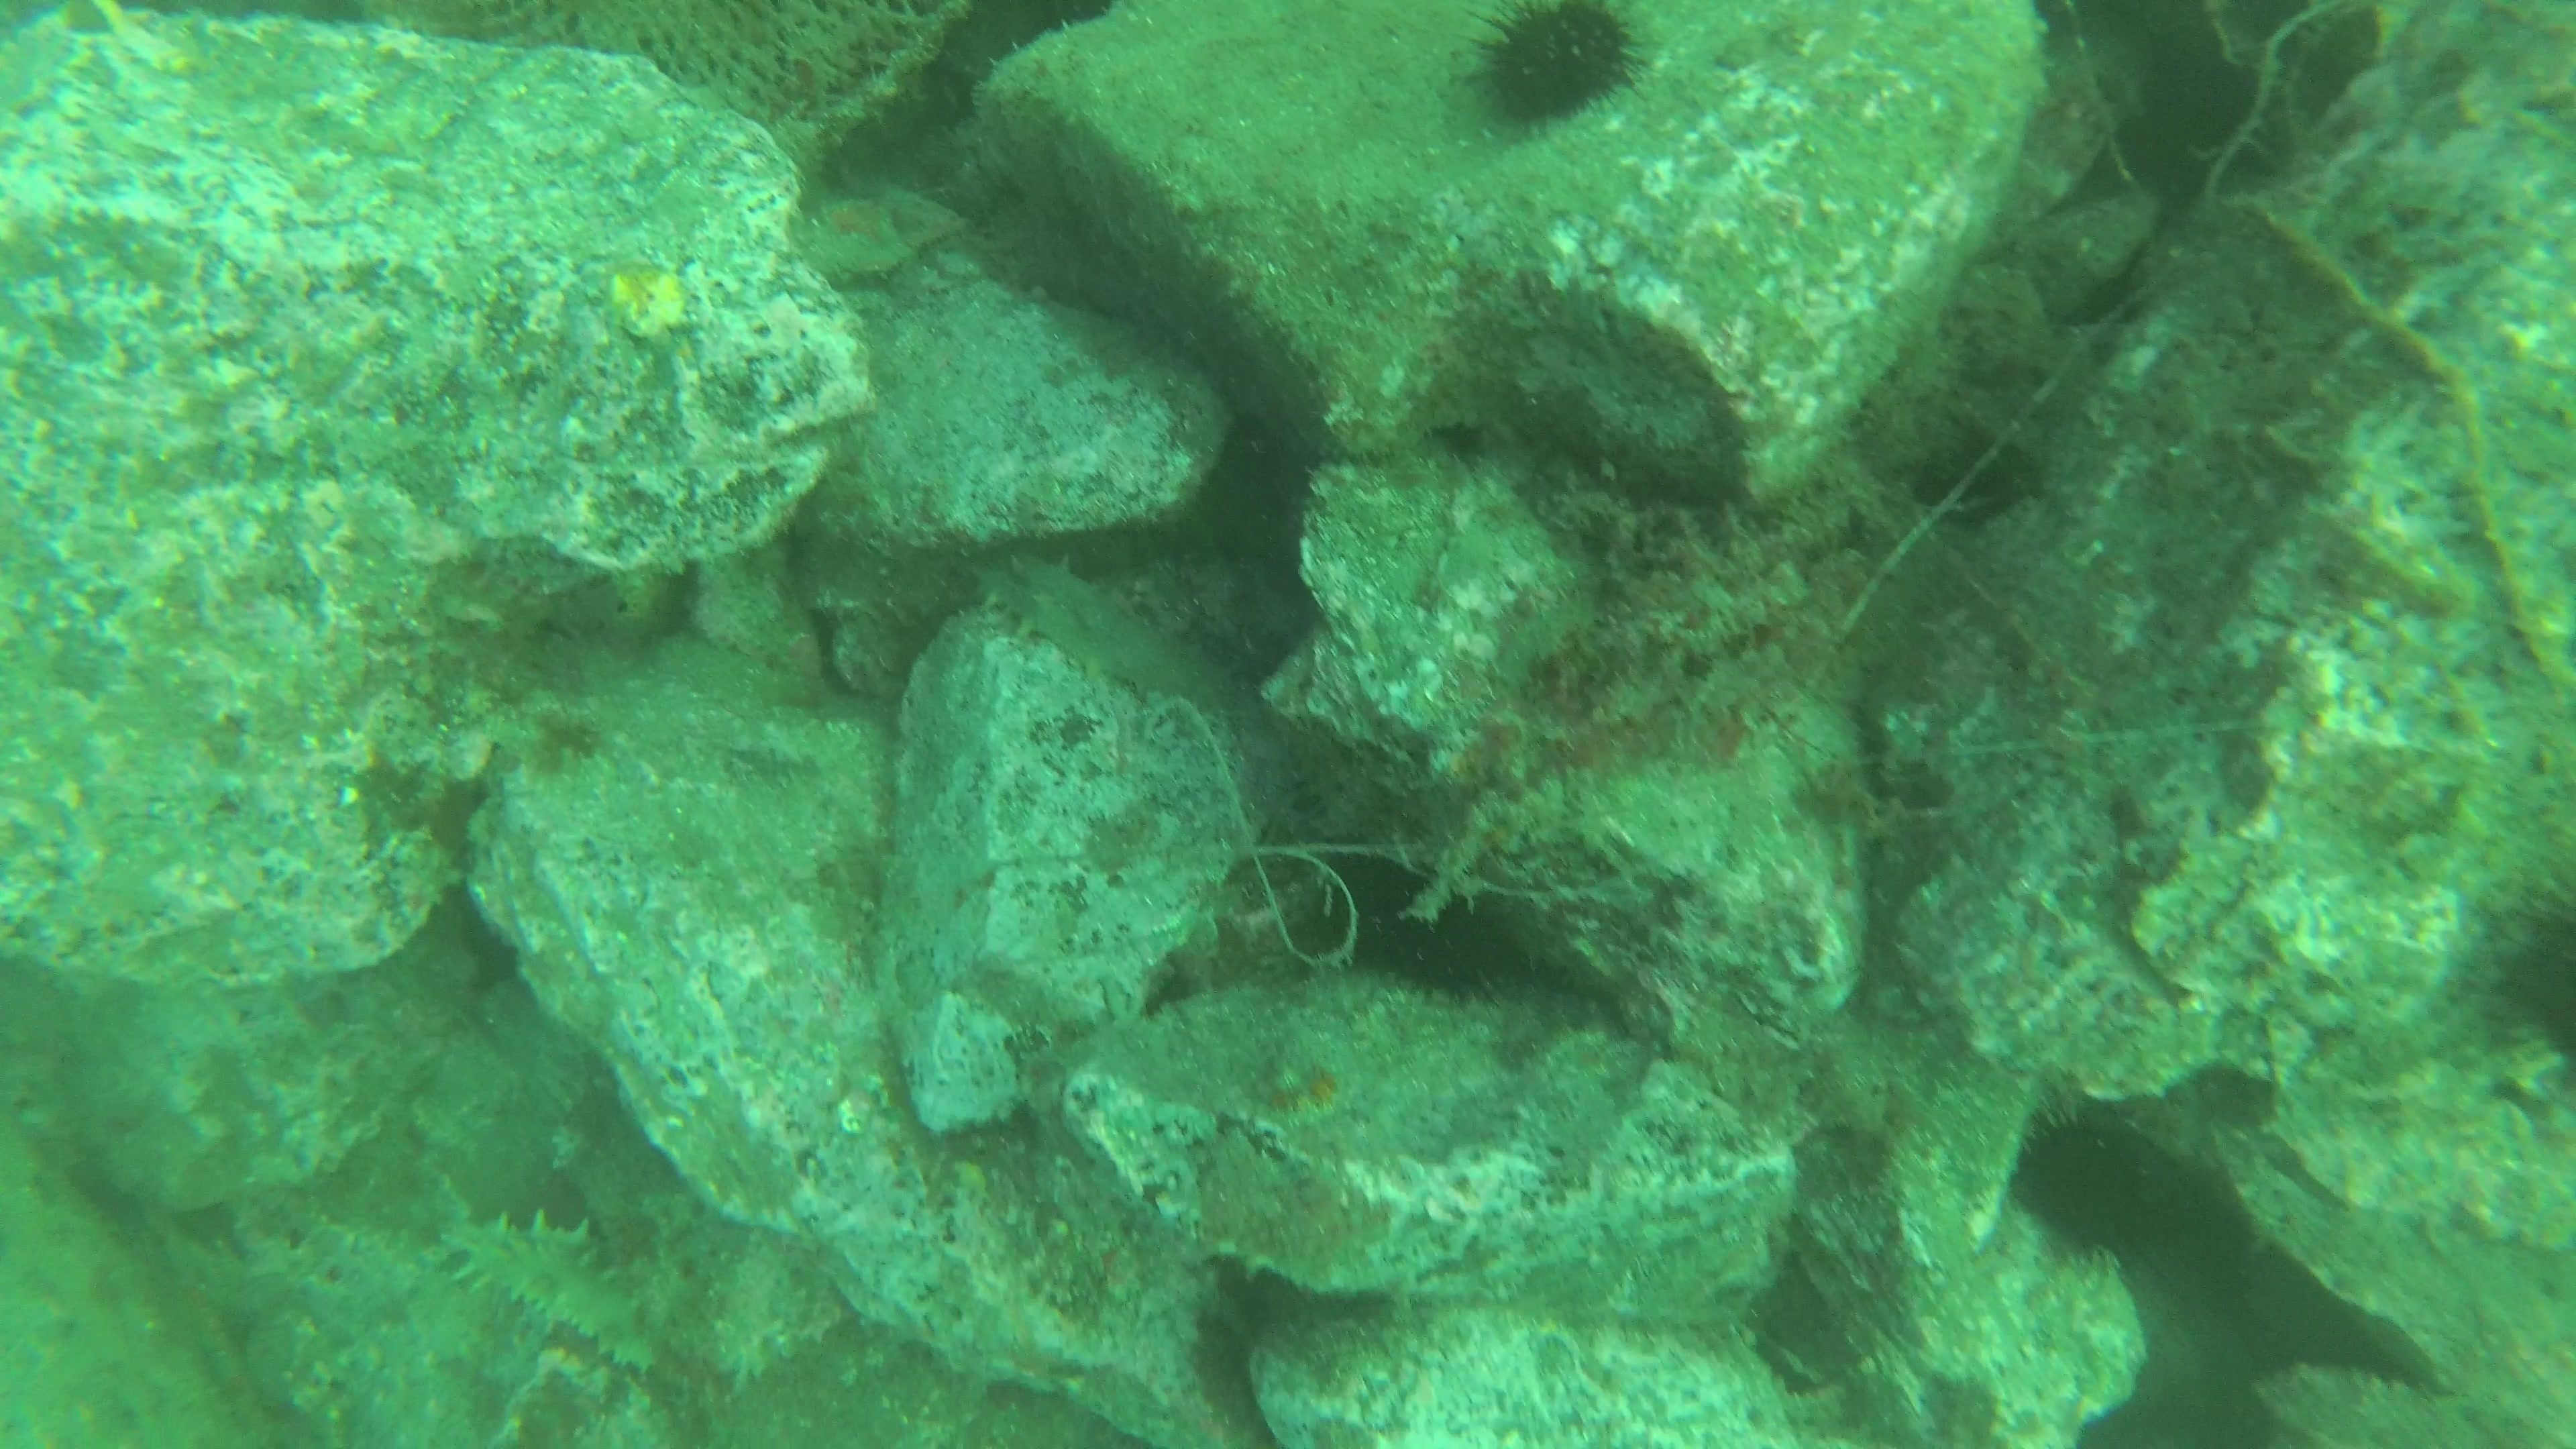echinus: (2005, 1095, 2180, 1265), (1456, 2, 1652, 136), (2477, 872, 2576, 1070), (1375, 885, 1523, 1003)
holothurian: (970, 545, 1240, 715), (423, 1194, 669, 1376)
